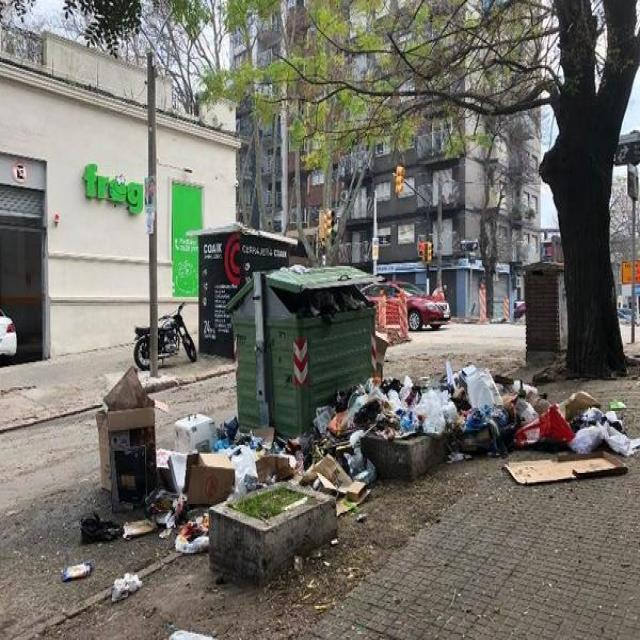high trash: (80, 366, 640, 553)
less trash: (505, 455, 626, 484), (111, 572, 142, 602), (62, 561, 94, 581)
